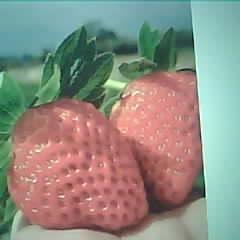straw-ripe: (7, 97, 148, 230), (111, 70, 204, 206)
